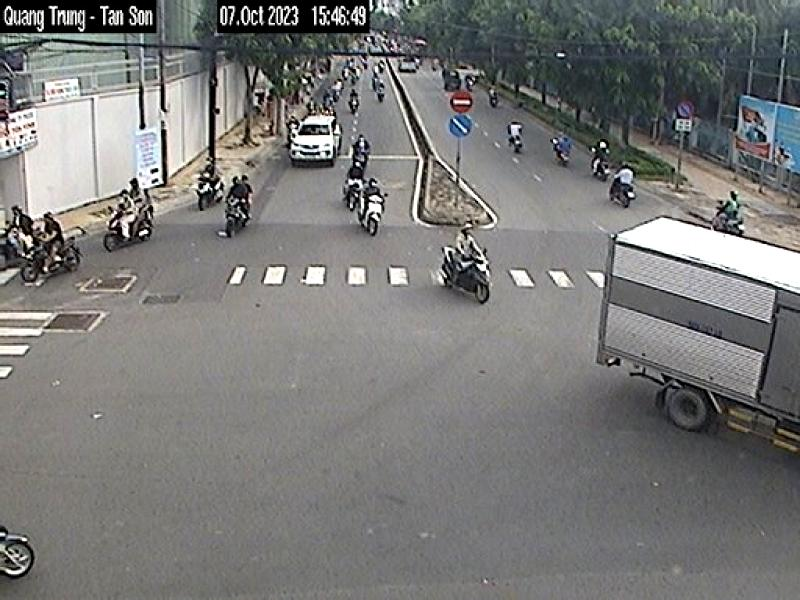car: (289, 114, 341, 166), (398, 60, 418, 73)
motorcycle: (19, 235, 90, 290), (100, 205, 160, 252), (445, 252, 492, 302)
truck: (596, 205, 799, 456)
